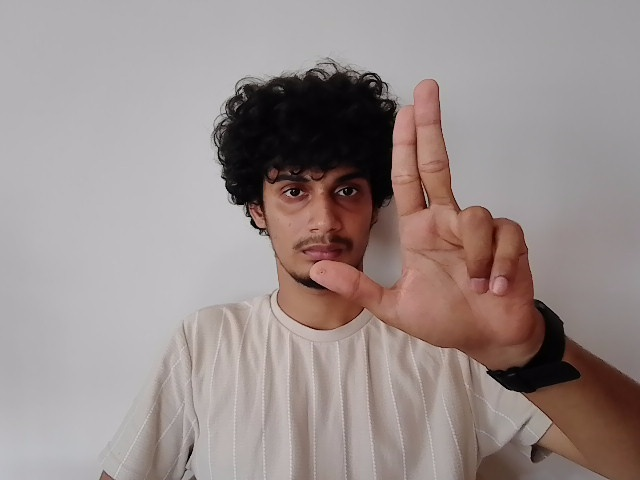no: (312, 72, 534, 353)
